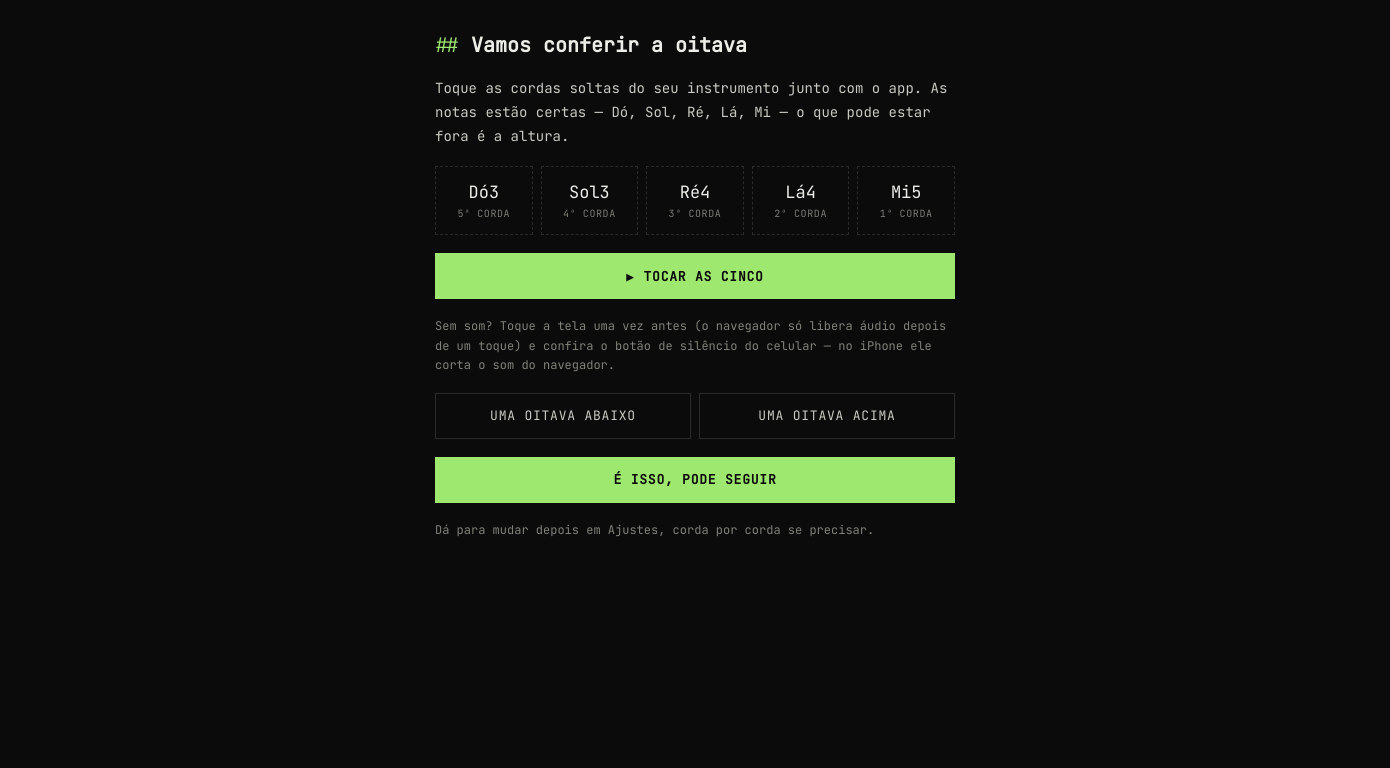
app › abre na conferência de oitava e só depois libera as abas
Expected: the heading "Vamos conferir a oitava" is shown, top-left (471, 32), bottom-right (747, 58)
Expected: the button "Treino" is not shown
Click the button "É isso, pode seguir".
click(695, 480)  # box top-left (435, 457), bottom-right (955, 503)
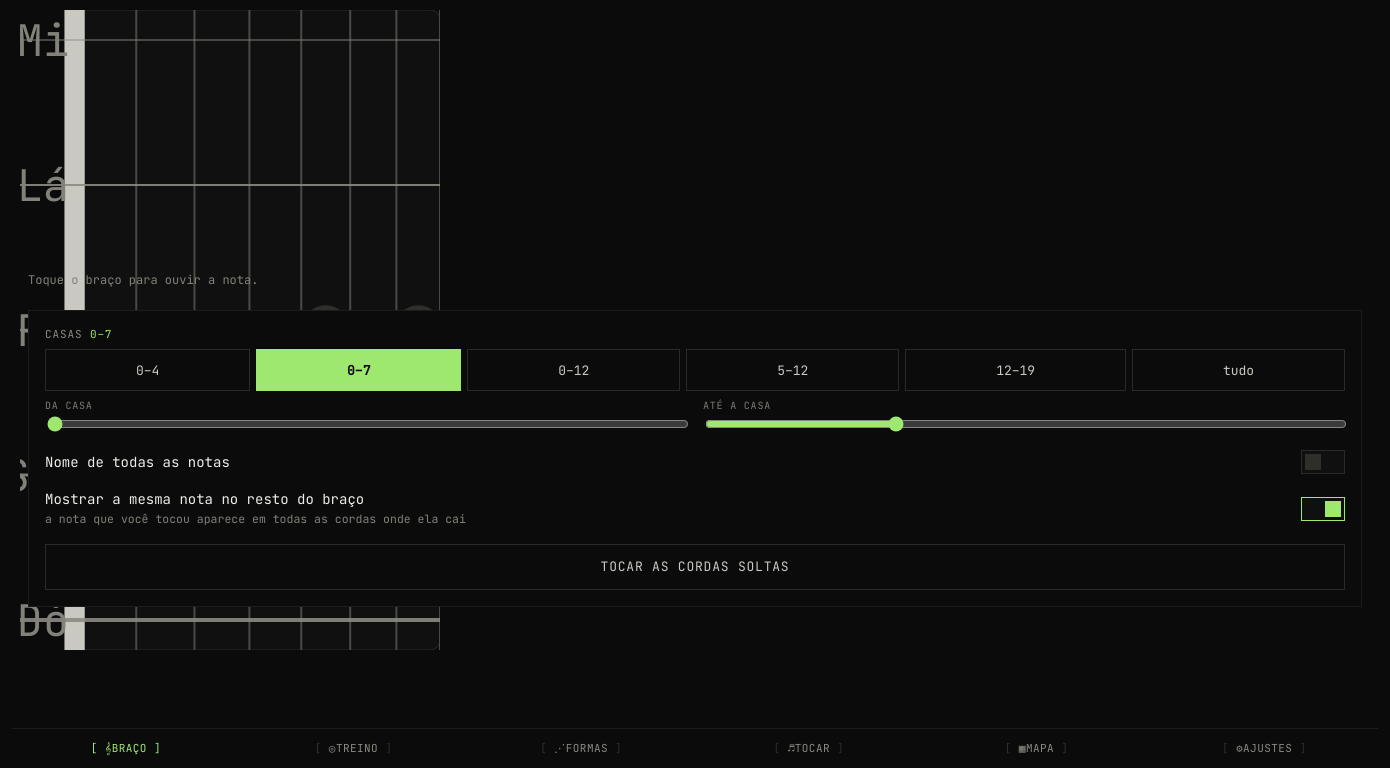
Expected: the button "◎Treino" is shown, top-left (240, 729), bottom-right (467, 767)
